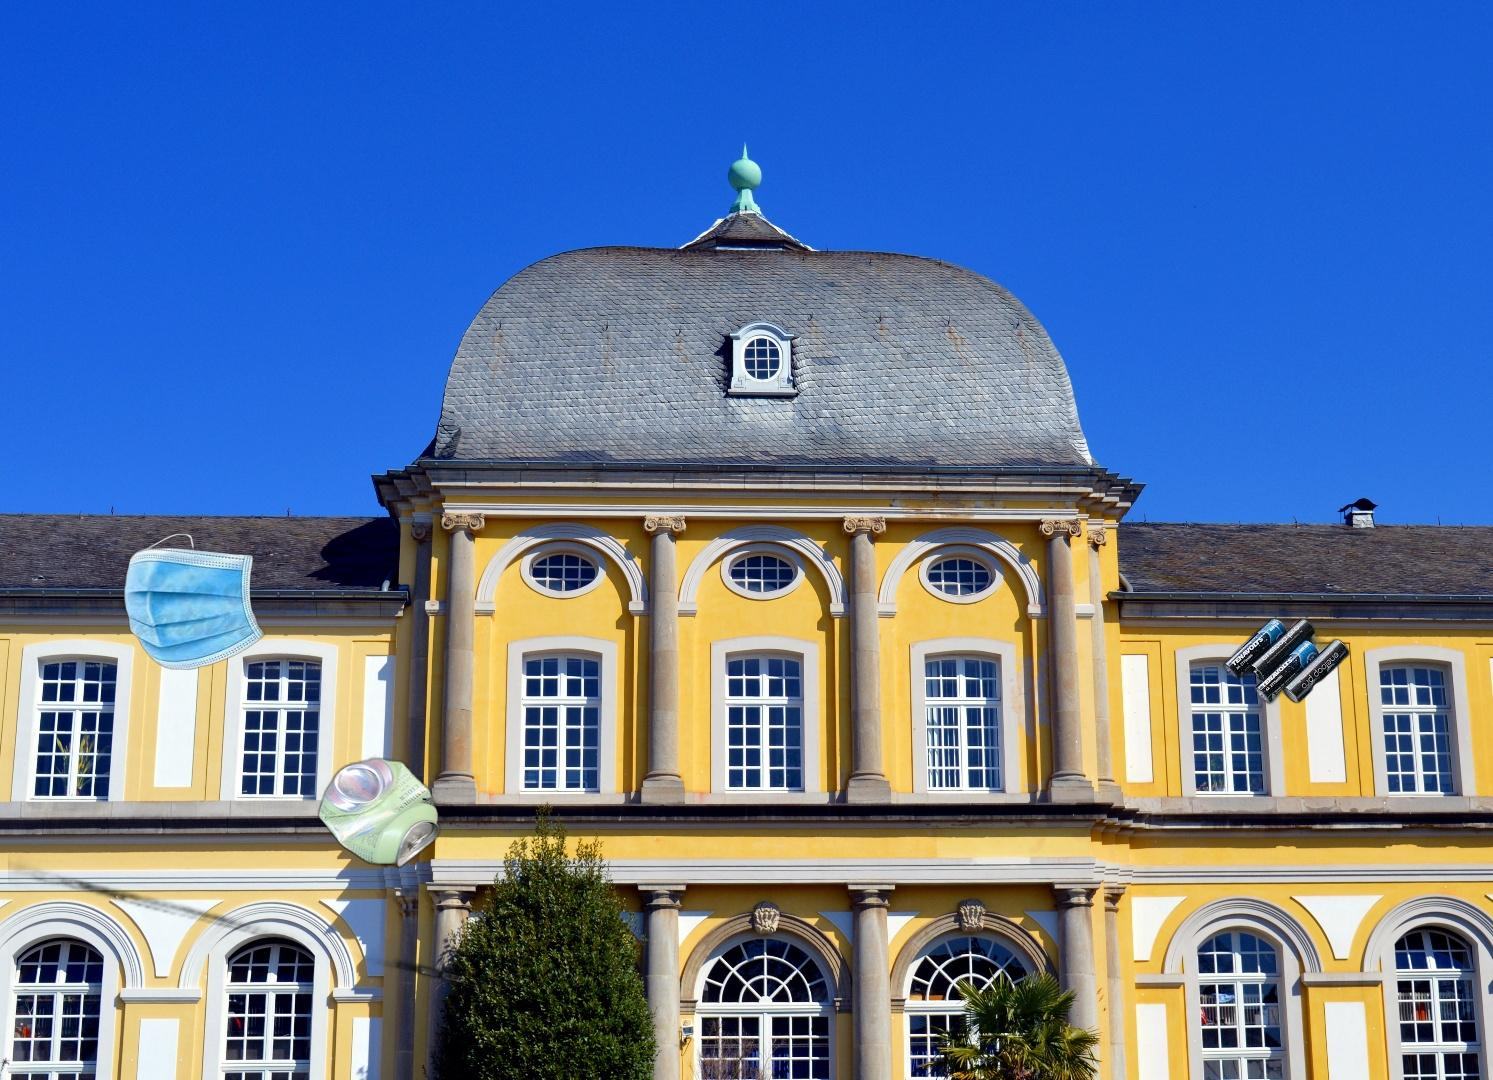battery: (1179, 581, 1408, 707)
metal-cans: (8, 428, 520, 1080)
trash: (121, 531, 267, 673)
